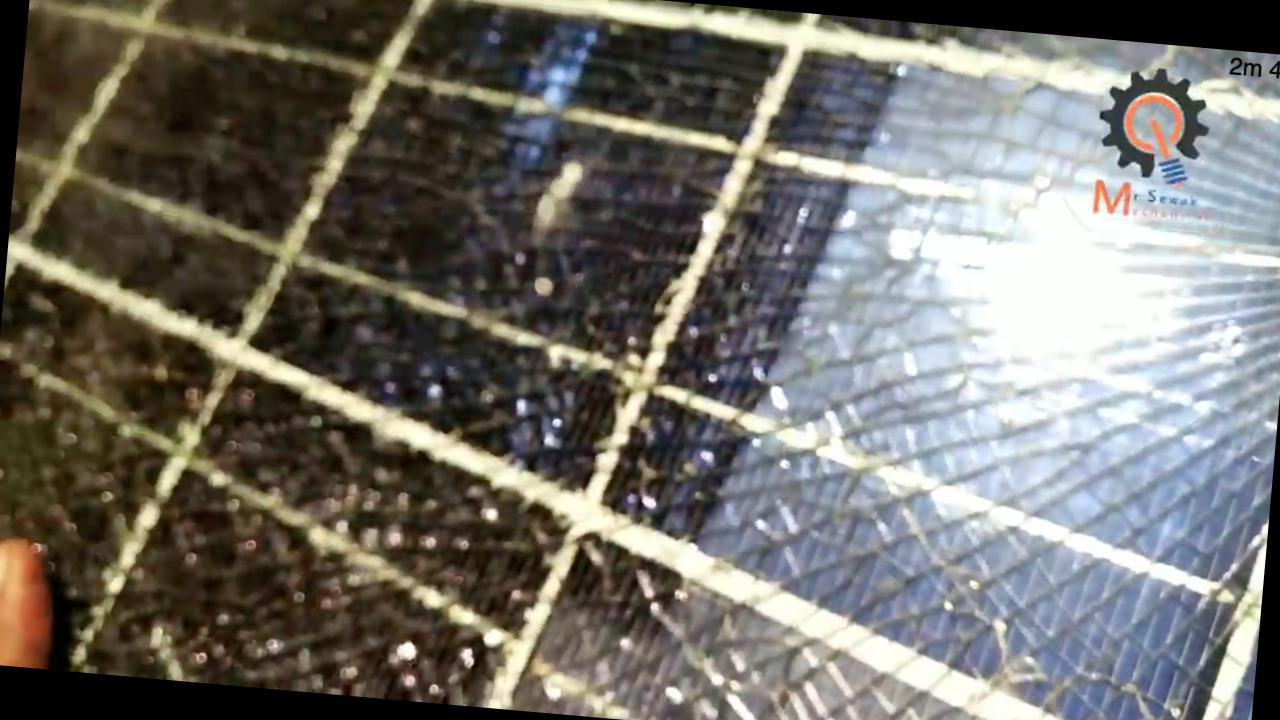Crack: (85, 0, 1084, 719)
